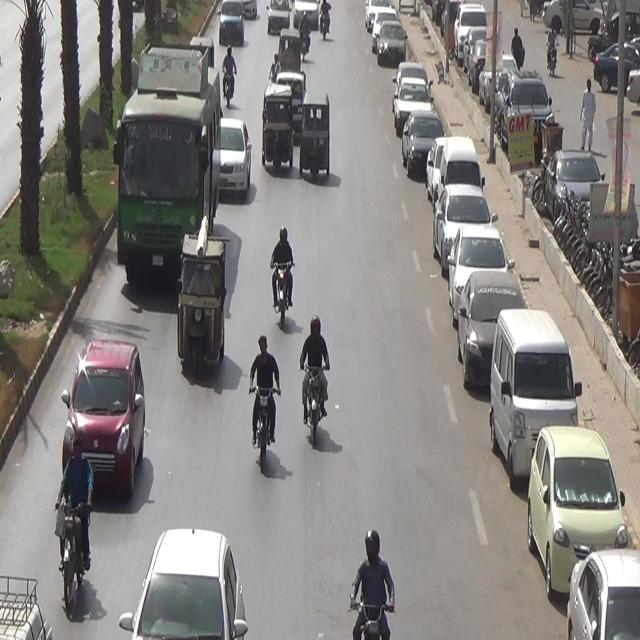car: (50, 322, 145, 488), (218, 106, 259, 213), (217, 0, 243, 50)
motorbike: (53, 437, 102, 628), (341, 518, 402, 640), (298, 302, 337, 458), (245, 330, 281, 482), (258, 212, 295, 348), (222, 45, 240, 108), (268, 46, 282, 94), (318, 0, 333, 40)
truck: (91, 32, 216, 284)
